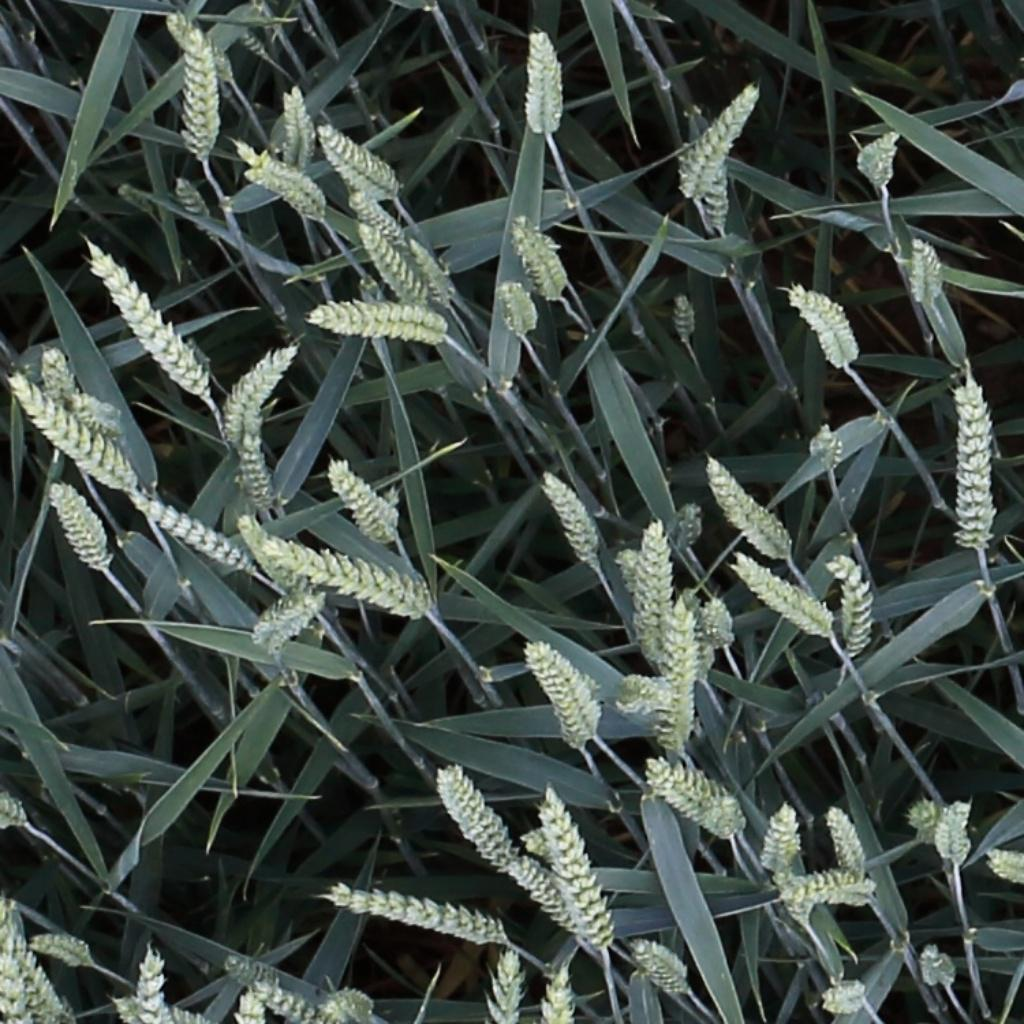0-0: (90, 247, 212, 400), (5, 372, 139, 495), (271, 544, 437, 628), (321, 879, 509, 945), (539, 785, 615, 947), (503, 628, 602, 752), (130, 488, 253, 573), (662, 79, 748, 199), (638, 763, 750, 846), (435, 765, 517, 876), (709, 464, 797, 561), (512, 851, 598, 946), (950, 382, 997, 554), (828, 543, 893, 663), (306, 302, 461, 352), (354, 215, 434, 311), (737, 555, 831, 636), (223, 341, 297, 443), (234, 139, 323, 221), (633, 518, 680, 672), (236, 510, 311, 603), (540, 466, 604, 570), (326, 456, 401, 544), (658, 610, 700, 763), (790, 282, 862, 365), (47, 480, 109, 576), (318, 122, 400, 192), (510, 210, 569, 304), (166, 9, 238, 84), (175, 20, 212, 165), (401, 229, 460, 309), (10, 944, 65, 1022), (256, 593, 326, 652), (348, 192, 413, 255), (250, 157, 329, 208), (550, 670, 595, 756), (826, 801, 872, 884), (857, 112, 905, 191), (0, 846, 30, 972), (529, 24, 560, 141), (630, 939, 693, 995), (109, 990, 214, 1022), (933, 790, 972, 873), (238, 427, 275, 514), (758, 803, 807, 868), (784, 875, 885, 906), (522, 819, 599, 859), (682, 591, 718, 672), (249, 984, 324, 1022), (40, 341, 77, 416), (498, 274, 539, 339), (692, 163, 737, 221), (221, 957, 293, 992), (703, 589, 740, 653), (285, 79, 309, 174), (912, 793, 952, 850), (779, 868, 816, 926), (0, 948, 28, 1024), (65, 390, 119, 429), (145, 948, 172, 1024), (498, 944, 524, 1022), (673, 496, 705, 559), (912, 229, 937, 309), (0, 755, 27, 828), (28, 937, 94, 965), (671, 285, 700, 348), (812, 421, 845, 476), (320, 989, 375, 1022), (921, 939, 950, 995), (547, 962, 573, 1024), (608, 544, 642, 591), (237, 985, 266, 1024), (823, 985, 871, 1008), (987, 856, 1024, 883)
